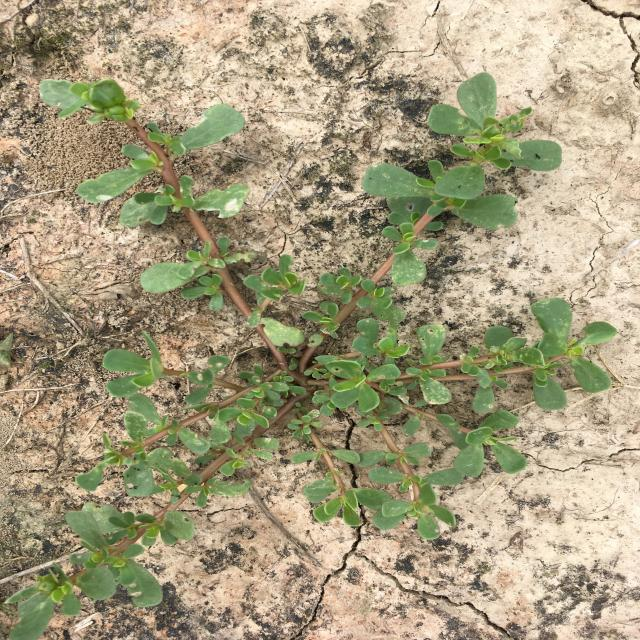Purslane: (5, 72, 617, 640)
